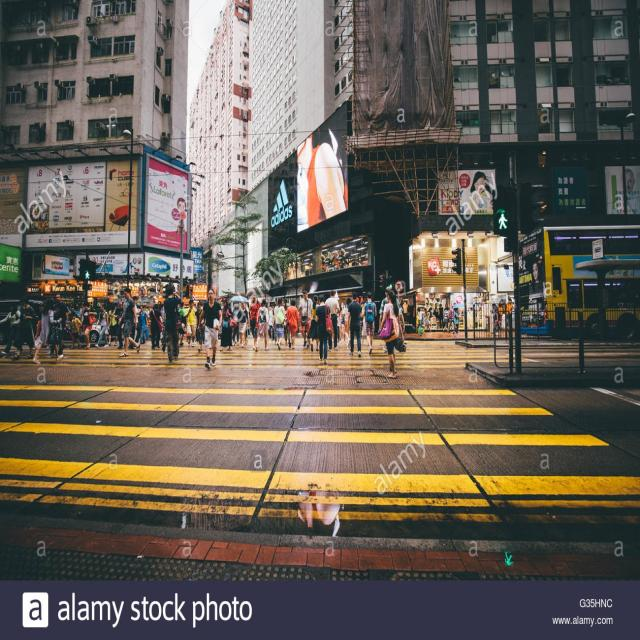body: (297, 128, 347, 230), (280, 243, 348, 282), (378, 288, 405, 379), (31, 296, 65, 365), (378, 286, 405, 372), (196, 288, 222, 371), (117, 287, 141, 357), (13, 294, 38, 359), (46, 292, 70, 359), (162, 285, 182, 362), (465, 165, 495, 213), (0, 302, 24, 355), (360, 289, 378, 356), (528, 259, 546, 325), (315, 296, 332, 365), (617, 163, 640, 214), (346, 290, 362, 357), (326, 289, 342, 352), (298, 288, 313, 349), (247, 293, 262, 351), (254, 298, 270, 352), (171, 188, 187, 240), (219, 297, 234, 352), (146, 302, 162, 352), (80, 301, 96, 350), (308, 293, 321, 352), (286, 297, 300, 350), (272, 297, 286, 350), (94, 303, 110, 349), (237, 300, 251, 349), (194, 300, 207, 352), (185, 298, 198, 347), (362, 295, 374, 347), (342, 296, 353, 349), (69, 312, 83, 350), (107, 304, 119, 348), (137, 304, 149, 347), (442, 300, 458, 332), (177, 298, 187, 348), (115, 298, 124, 349), (130, 294, 138, 346), (231, 300, 240, 346), (338, 296, 347, 342), (266, 302, 275, 342), (492, 303, 501, 338), (505, 297, 514, 330), (451, 306, 460, 336), (143, 304, 150, 341), (423, 307, 432, 335), (497, 300, 504, 330), (437, 302, 444, 329), (416, 305, 422, 335), (432, 302, 440, 321), (427, 306, 433, 320), (157, 300, 164, 310), (281, 300, 286, 308)
